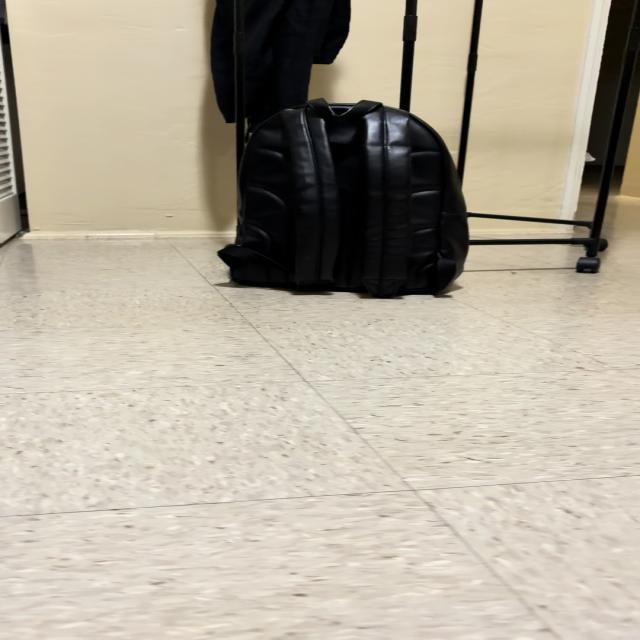backpack: (219, 100, 468, 296)
